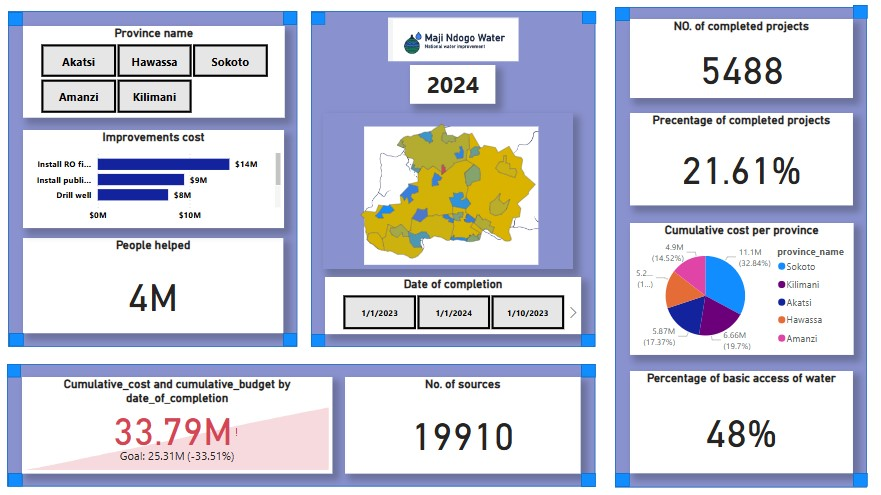

The dashboard page shown, as its layout file describes it:
{"tool":"powerbi","page":{"name":"Overview","canvas":[1280,720],"ordinal":0},"visuals":[{"type":"shape","box":[480.3,19.8,403,475.8],"z":0},{"type":"shape","box":[50.4,19.8,410.2,475.8],"z":1000},{"type":"image","box":[519,179,320.2,206],"z":2000},{"type":"shape","box":[911.2,13.5,357.1,680.9],"z":3000},{"type":"card","title":"NO. of completed projects","fields":{"Values":["project_progress.Number_completed_projects"]},"box":[931.9,30.6,315.7,112.4],"z":4000},{"type":"card","title":"Precentage of completed projects","fields":{"Values":["project_progress.Pct_project_complete"]},"box":[931.9,163.7,315.7,131.3],"z":5000},{"type":"shapeMap","fields":{"Category":["project_progress.town"],"Value":["project_progress.Pct_project_complete"]},"box":[497.4,163.7,354.4,221.3],"z":6000},{"type":"actionButton","box":[0,0,100,40],"z":7000},{"type":"card","title":"People helped","fields":{"Values":["water_source.population_now_basic_access"]},"box":[72.9,341.8,368.8,134.9],"z":8000},{"type":"card","title":"Percentage of basic access of water","fields":{"Values":["water_source.Basic_access_to_water"]},"box":[931.9,529.8,315.7,144.8],"z":9000},{"type":"slicer","title":"Date of completion","fields":{"Values":["project_progress.date_of_completion"]},"box":[500.8,396.7,363.1,80.6],"z":10000},{"type":"shape","box":[49.5,520.8,833.8,173.6],"z":11000},{"type":"shape","box":[49.5,520.8,19.8,18.9],"z":12000},{"type":"shape","box":[862.6,519.9,20.7,18.9],"z":13000},{"type":"shape","box":[440.8,476.7,19.8,18.9],"z":14000},{"type":"shape","box":[911.2,674.6,20.7,19.8],"z":15000},{"type":"shape","box":[911.2,13.5,20.7,19.8],"z":16000},{"type":"card","title":"No. of sources","fields":{"Values":["project_progress.No. of sources need to be improved"]},"box":[528.9,537.9,333.7,136.7],"z":17000},{"type":"slicer","title":"Province name","fields":{"Values":["location.province_name"]},"box":[72,40.5,370.6,129.5],"z":18000},{"type":"clusteredBarChart","title":"Improvements cost","fields":{"Category":["project_progress.Aggregated_improvements"],"Y":["Sum(project_progress.cost)"]},"box":[72.4,188.7,370.2,138.7],"z":19000},{"type":"shape","box":[52.2,476.7,20.7,18.9],"z":20000},{"type":"shape","box":[1248,11.4,20.6,19.4],"z":21000},{"type":"shape","box":[1248,674.9,20.6,19.4],"z":22000},{"type":"shape","box":[440.8,19.8,19.8,19.8],"z":23000},{"type":"shape","box":[51.3,20.7,20.7,19.8],"z":24000},{"type":"shape","box":[51.5,674.9,20.6,19.4],"z":25000},{"type":"shape","box":[862.6,674.6,20.7,19.8],"z":26000},{"type":"kpi","fields":{"TrendLine":["project_progress.date_of_completion"],"Goal":["project_progress.cumulative_budget"],"Indicator":["project_progress.Cumulative_cost"]},"box":[70.2,537.9,439.9,136.7],"z":27000},{"type":"pieChart","title":"Cumulative cost per province","fields":{"Y":["project_progress.Cumulative_cost"],"Category":["location.province_name"]},"box":[931.9,320.2,316.6,187.1],"z":28000},{"type":"image","box":[512,23.5,340.7,72.4],"z":29000},{"type":"shape","box":[862.9,477.3,20.4,18.4],"z":30000},{"type":"shape","box":[863.9,20.4,20.4,18.4],"z":31000},{"type":"shape","box":[480.4,477.3,20.4,18.4],"z":32000},{"type":"shape","box":[480.4,21.4,20.4,18.4],"z":33000},{"type":"textbox","box":[620.7,96.2,121.4,54.9],"z":34000}]}

Visuals, with their boxes in screenshot pixels (x1, y1, x2, y2), scaled from the page's 1280x720 canvas onto the 881x495 screenshot:
shape: {"x1": 331, "y1": 14, "x2": 608, "y2": 341}
shape: {"x1": 35, "y1": 14, "x2": 317, "y2": 341}
image: {"x1": 357, "y1": 123, "x2": 578, "y2": 265}
shape: {"x1": 627, "y1": 9, "x2": 873, "y2": 477}
"NO. of completed projects" card: {"x1": 641, "y1": 21, "x2": 859, "y2": 98}
"Precentage of completed projects" card: {"x1": 641, "y1": 113, "x2": 859, "y2": 203}
shapeMap - project_progress.town x project_progress.Pct_project_complete: {"x1": 342, "y1": 113, "x2": 586, "y2": 265}
actionButton: {"x1": 0, "y1": 0, "x2": 69, "y2": 28}
"People helped" card: {"x1": 50, "y1": 235, "x2": 304, "y2": 328}
"Percentage of basic access of water" card: {"x1": 641, "y1": 364, "x2": 859, "y2": 464}
"Date of completion" slicer: {"x1": 345, "y1": 273, "x2": 595, "y2": 328}
shape: {"x1": 34, "y1": 358, "x2": 608, "y2": 477}
shape: {"x1": 34, "y1": 358, "x2": 48, "y2": 371}
shape: {"x1": 594, "y1": 357, "x2": 608, "y2": 370}
shape: {"x1": 303, "y1": 328, "x2": 317, "y2": 341}
shape: {"x1": 627, "y1": 464, "x2": 641, "y2": 477}
shape: {"x1": 627, "y1": 9, "x2": 641, "y2": 23}
"No. of sources" card: {"x1": 364, "y1": 370, "x2": 594, "y2": 464}
"Province name" slicer: {"x1": 50, "y1": 28, "x2": 305, "y2": 117}
"Improvements cost" clusteredBarChart: {"x1": 50, "y1": 130, "x2": 305, "y2": 225}
shape: {"x1": 36, "y1": 328, "x2": 50, "y2": 341}
shape: {"x1": 859, "y1": 8, "x2": 873, "y2": 21}
shape: {"x1": 859, "y1": 464, "x2": 873, "y2": 477}
shape: {"x1": 303, "y1": 14, "x2": 317, "y2": 27}
shape: {"x1": 35, "y1": 14, "x2": 50, "y2": 28}
shape: {"x1": 35, "y1": 464, "x2": 50, "y2": 477}
shape: {"x1": 594, "y1": 464, "x2": 608, "y2": 477}
kpi - project_progress.date_of_completion x project_progress.cumulative_budget: {"x1": 48, "y1": 370, "x2": 351, "y2": 464}
"Cumulative cost per province" pieChart: {"x1": 641, "y1": 220, "x2": 859, "y2": 349}
image: {"x1": 352, "y1": 16, "x2": 587, "y2": 66}
shape: {"x1": 594, "y1": 328, "x2": 608, "y2": 341}
shape: {"x1": 595, "y1": 14, "x2": 609, "y2": 27}
shape: {"x1": 331, "y1": 328, "x2": 345, "y2": 341}
shape: {"x1": 331, "y1": 15, "x2": 345, "y2": 27}
textbox: {"x1": 427, "y1": 66, "x2": 511, "y2": 104}
